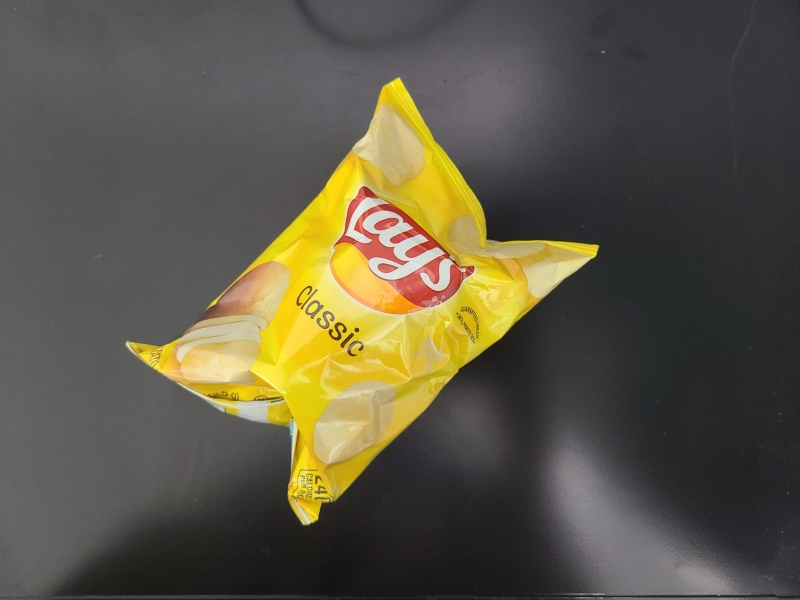lays: (125, 76, 604, 530)
